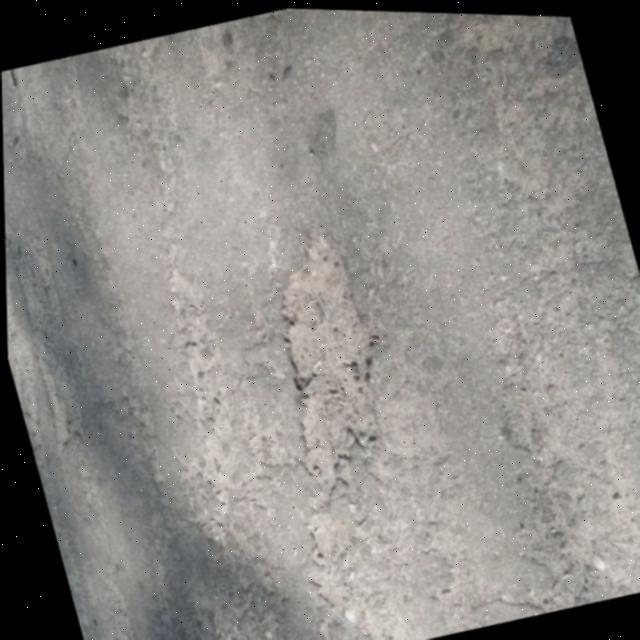Pothole: (241, 222, 413, 500)
